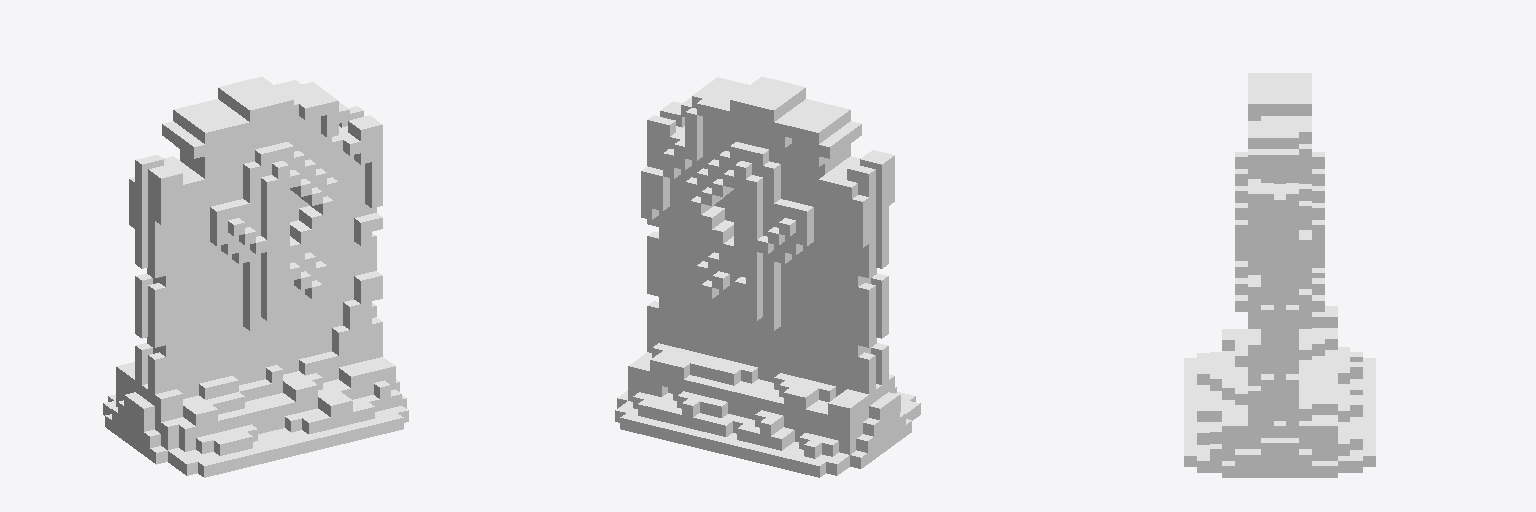
The model's file is RuneStone4.obj.
The picture shows the model from 3 angles: view 1: azimuth 30°, elevation 25°; view 2: azimuth 150°, elevation 25°; view 3: azimuth 270°, elevation 25°; orthographic projection.
Visible parts, largest first — view 1: object 1; view 2: object 1; view 3: object 1.
Part boxes in pixels (x1,y1,x2,y2): object 1: (103, 77, 408, 477); object 1: (615, 77, 920, 477); object 1: (1184, 73, 1375, 477).
Bounding box in the file's own units: 2.2 × 2.8 × 1.5.